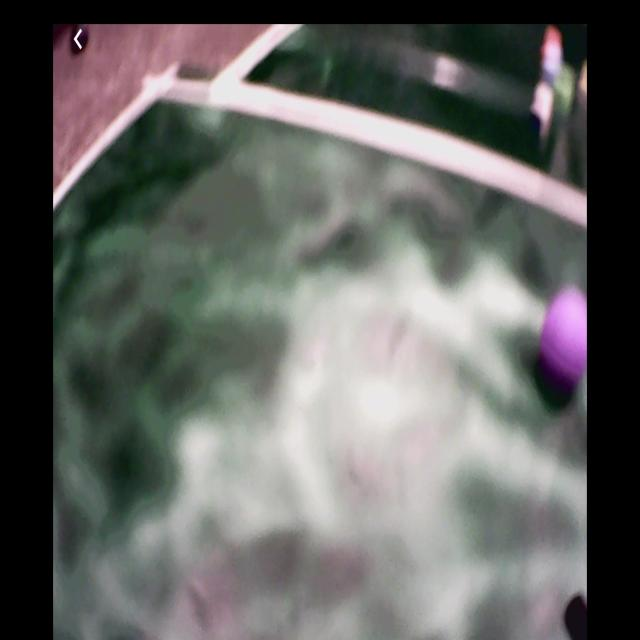ball: (539, 289, 587, 382)
